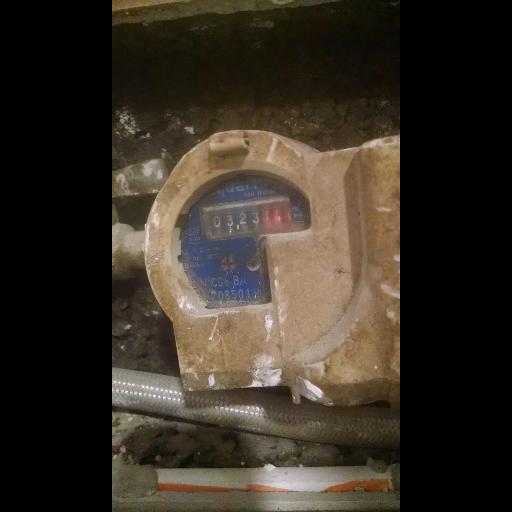0: (211, 214, 226, 236)
1: (262, 209, 277, 230)
2: (235, 212, 251, 233)
3: (223, 214, 238, 235), (249, 210, 264, 231)
4: (274, 207, 289, 228)
border_water_meter_number: (199, 194, 294, 242)
